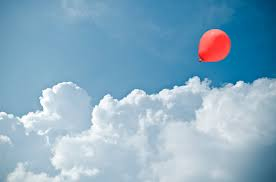Balloon: (198, 29, 231, 63)
